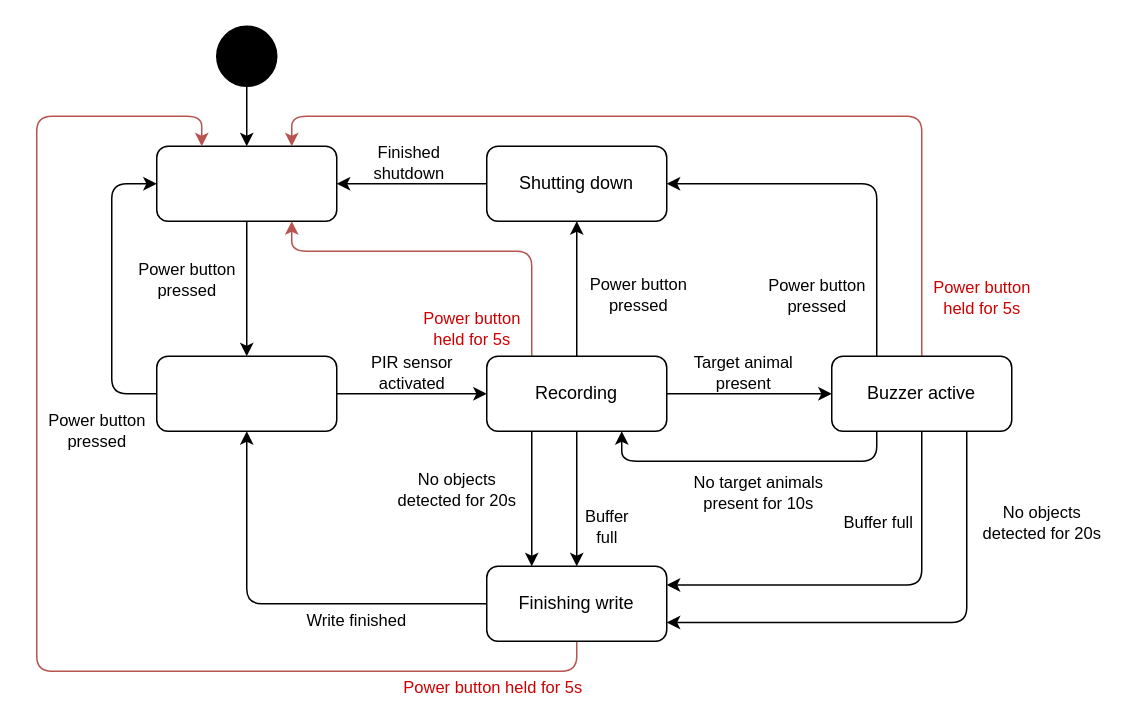
This 1128x723 diagram has some shape labels left out. The shapes that lost their labels are listed below. From the top down, each one's centre as x and y in pixels, then its label:
At [246,183]: "Standby".
At [246,393]: "Idle".
